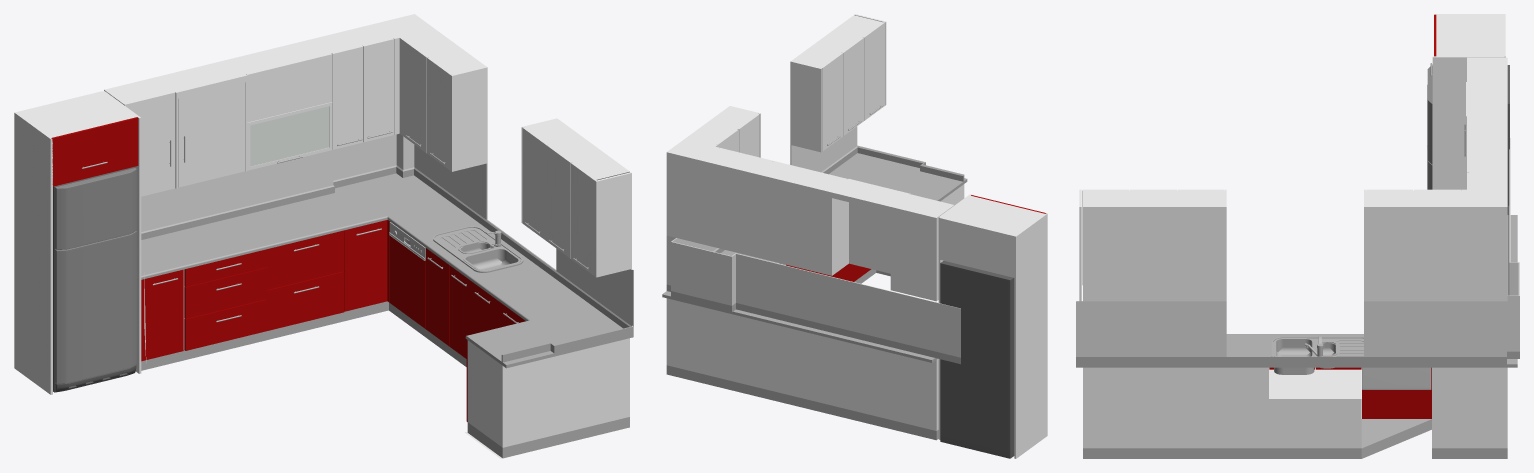
File: Kitchen002.fbx
3 views of the same model, side by side, from view 1: azimuth 30°, elevation 25°; view 2: azimuth 150°, elevation 25°; view 3: azimuth 270°, elevation 25° (orthographic). The views are drawn at different scales.
Visible parts, largest first — view 1: Layer:kapak (×2), Layer:gövde, Layer:mermer (×2), Layer:kapak1, Layer:fayan, group2, fridge_003_12, kapak3, fridge_003_08, Layer:yazı, gövde1, Layer:hasır (+5 smaller); view 2: Layer:gövde, Layer:fayan, fridge_003_00, group2, Layer:mermer (×2), gövde, Layer:kapak1, Layer:yazı, kapak3, kapak2, Layer:kapak; view 3: Layer:gövde, Layer:fayan, Layer:mermer (×2), Layer:yazı, group2, gövde, Layer:kapak, Layer:evye, dishwasher_005_00, Layer:kapak1, fridge_003_08.
Part boxes in pixels (<box>): Layer:kapak (×2): <box>51,117,525,421</box>; Layer:gövde: <box>104,14,629,458</box>; Layer:mermer (×2): <box>141,165,633,368</box>; Layer:kapak1: <box>123,36,572,258</box>; Layer:fayan: <box>141,133,633,326</box>; group2: <box>14,91,141,394</box>; fridge_003_12: <box>55,231,136,383</box>; kapak3: <box>178,74,244,187</box>; fridge_003_08: <box>55,168,136,249</box>; Layer:yazı: <box>141,301,629,458</box>; gövde1: <box>595,172,631,277</box>; Layer:hasır: <box>250,106,329,166</box>; Layer:gövde: <box>666,15,964,430</box>; Layer:fayan: <box>666,126,960,357</box>; fridge_003_00: <box>940,261,1014,458</box>; group2: <box>938,194,1047,458</box>; Layer:mermer (×2): <box>662,145,967,364</box>; gövde: <box>939,195,1044,277</box>; Layer:kapak1: <box>713,37,954,205</box>; Layer:yazı: <box>666,269,938,440</box>; kapak3: <box>848,179,906,273</box>; kapak2: <box>863,22,885,120</box>; Layer:kapak: <box>786,263,871,281</box>; Layer:gövde: <box>1083,57,1507,448</box>; Layer:fayan: <box>1076,138,1519,356</box>; Layer:mermer (×2): <box>1076,205,1519,367</box>; Layer:yazı: <box>1083,419,1507,458</box>; group2: <box>1432,14,1505,190</box>; gövde: <box>1436,14,1505,57</box>; Layer:kapak: <box>1269,367,1431,418</box>; Layer:evye: <box>1271,336,1363,374</box>; dishwasher_005_00: <box>1362,367,1431,389</box>; Layer:kapak1: <box>1130,57,1469,190</box>; fridge_003_08: <box>1427,65,1432,164</box>.
Bounding box in the file's own units: 394 × 240 × 383.
